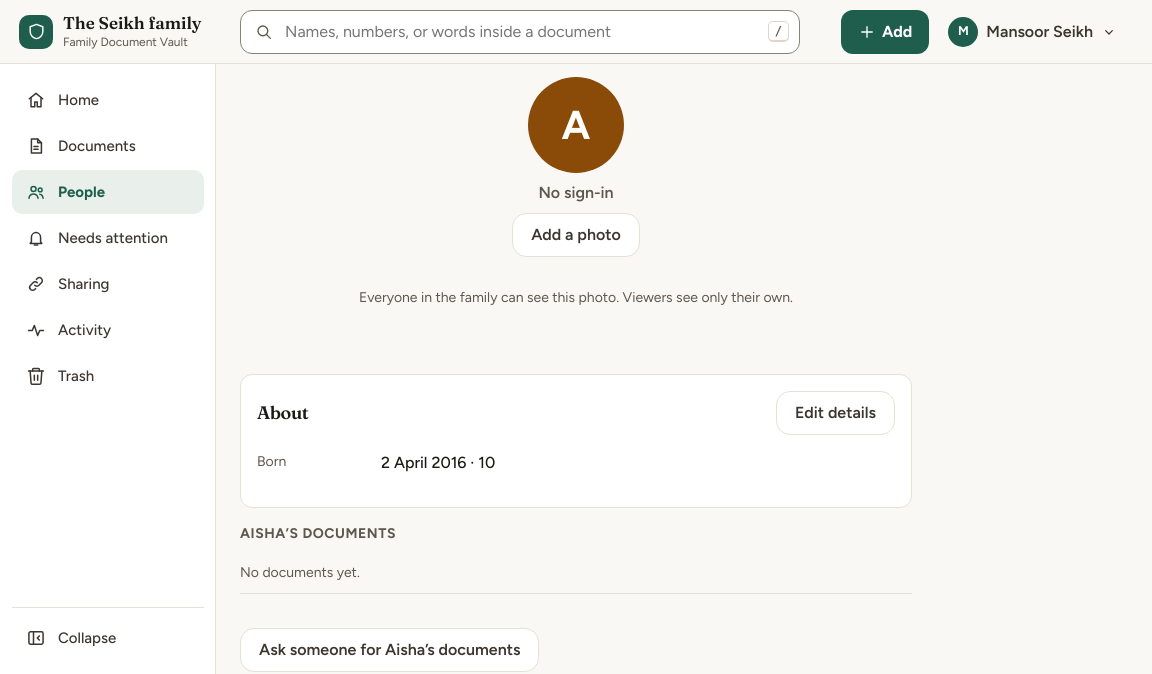
Scenario: asking for documents › from a person’s page, the request says whose they probably are
This screenshot has width=1152, height=674.
(page scrolled)
Click the link "Ask someone for Aisha’s documents" at (390, 650), box x1=240 y1=628 x2=539 y2=672
(page scrolled)
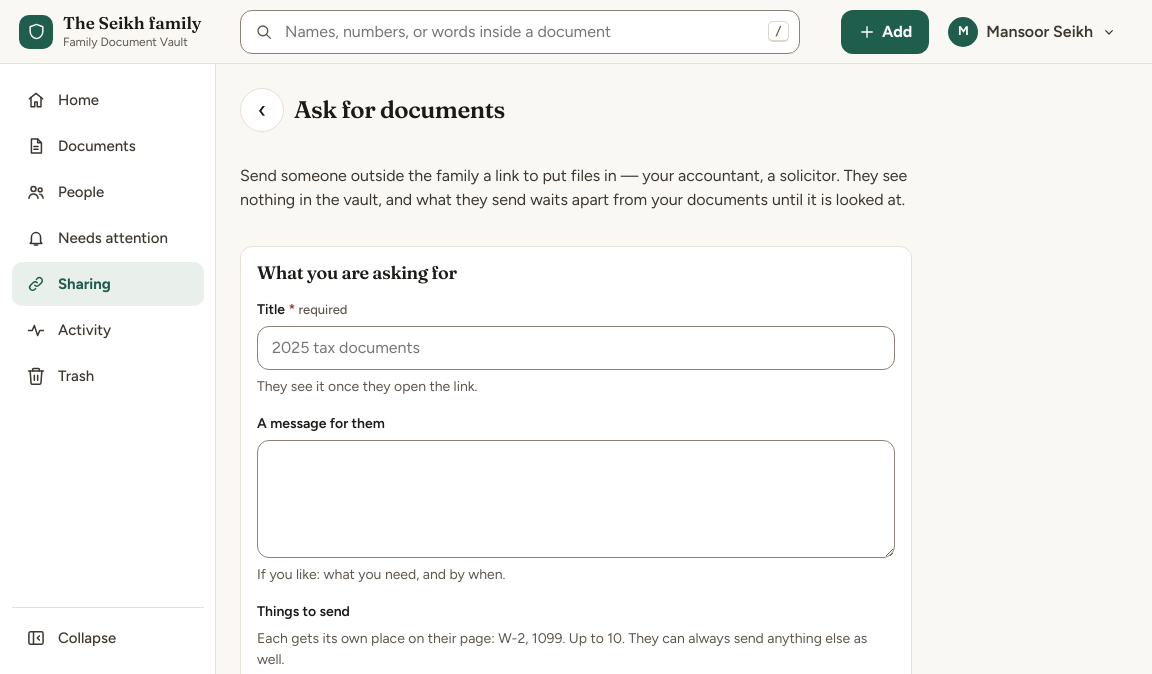
Expected: the heading "What you are asking for" is shown, x1=257 y1=261 x2=457 y2=284
Type "School reports" into the field labelled "Title * required" at (576, 348), box x1=257 y1=326 x2=895 y2=370
(page scrolled)
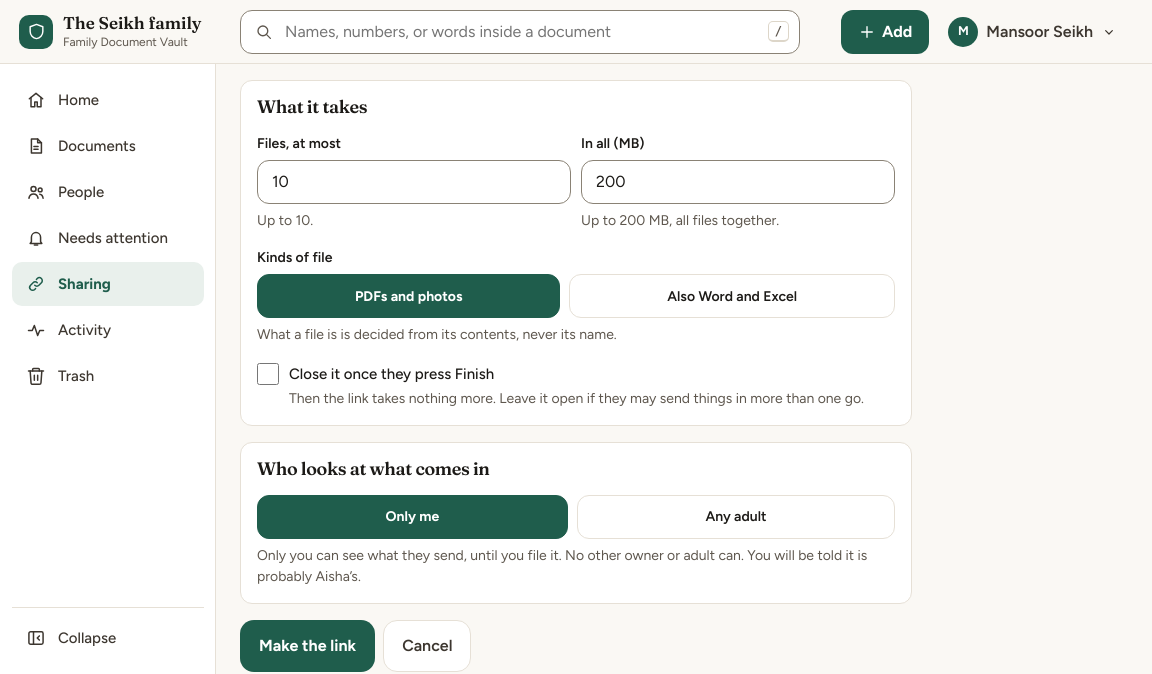
Click the button "Make the link" at (308, 646), box x1=240 y1=620 x2=375 y2=672
(page scrolled)
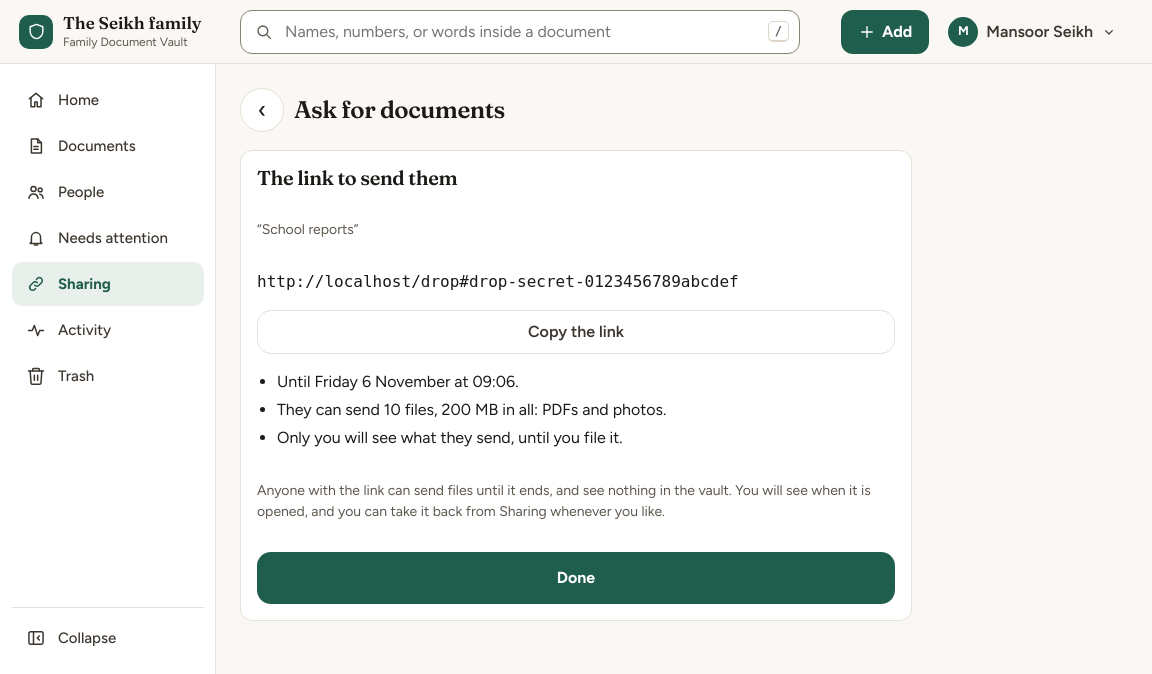
Expected: the element with test id "request-handover" is shown, x1=240 y1=150 x2=912 y2=621
Done goes back to her page.
Click the button "Done" at (576, 578), box x1=257 y1=552 x2=895 y2=604
(page scrolled)
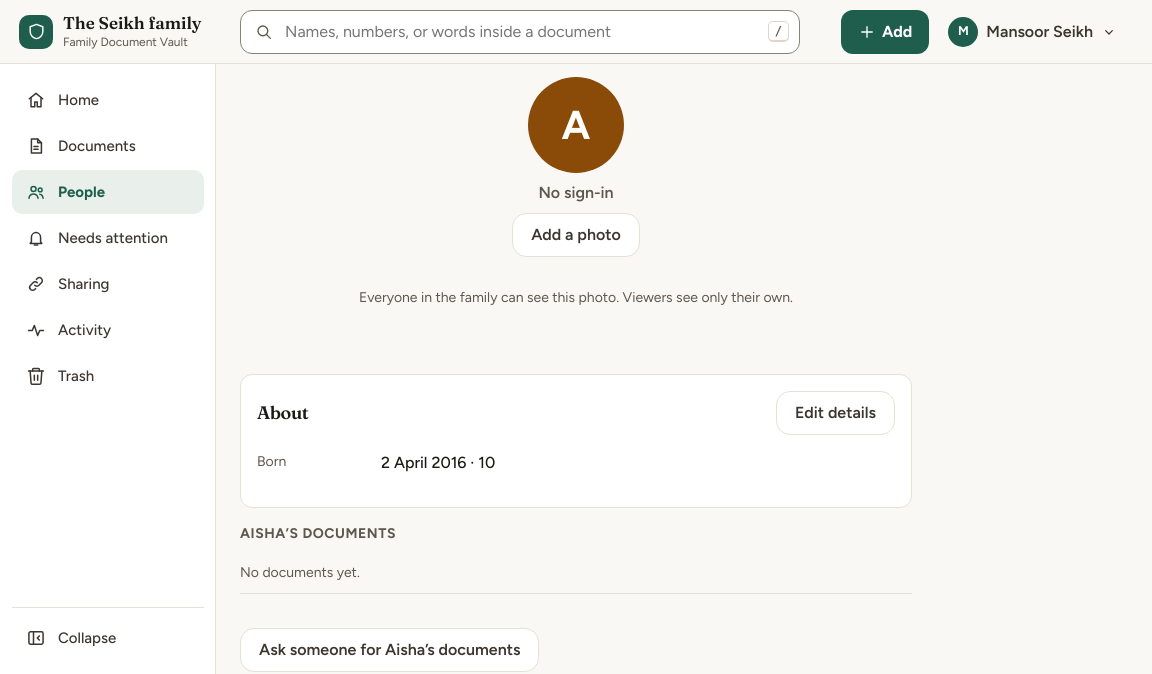
Expected: the link "Ask someone for Aisha’s documents" is shown, x1=240 y1=628 x2=539 y2=672
